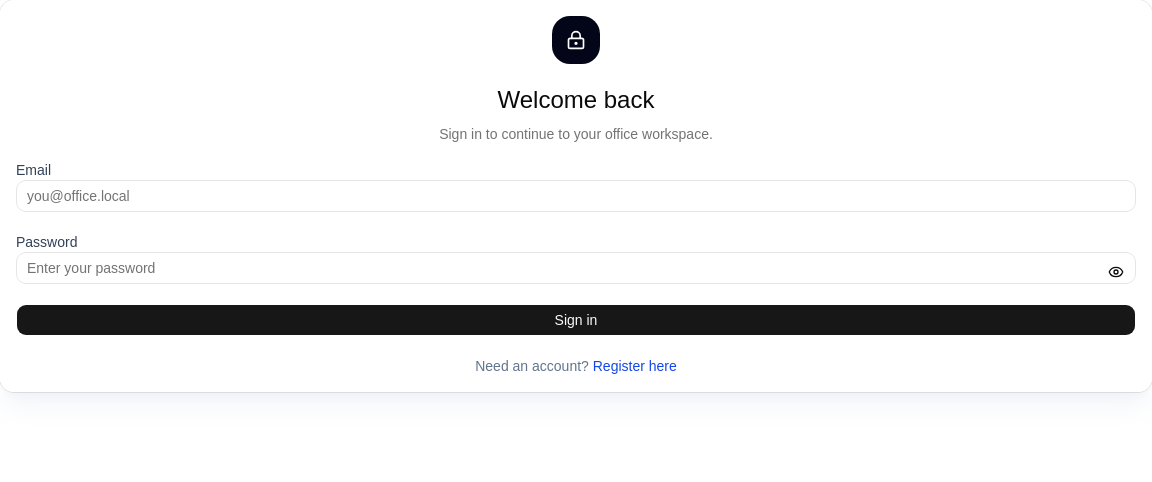
Test case: authentication UI and session state › shows a safe error for invalid credentials
Type "ada@office.local" into the field labelled "Email" at [576, 196], box [16,180,1136,212]
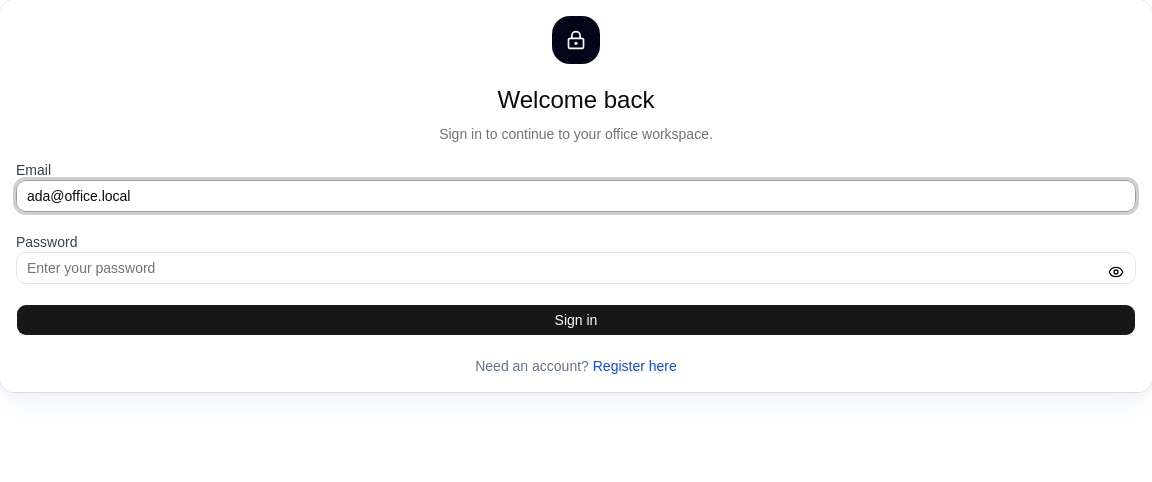
Type "wrong-password" into the password field labelled "Password" at [576, 268], box [16,252,1136,284]
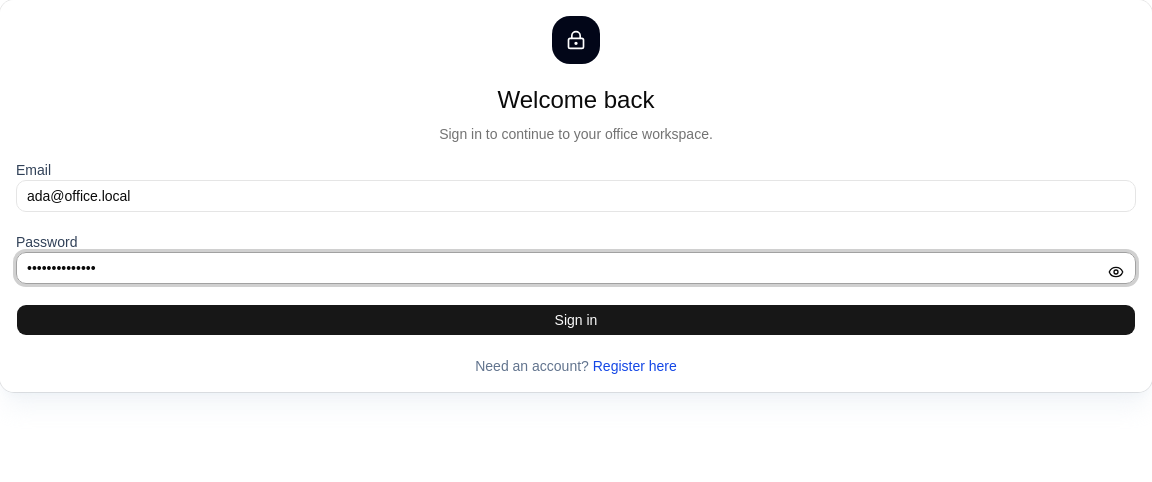
Click the button "Sign in" at [576, 320], box [16,304,1136,336]
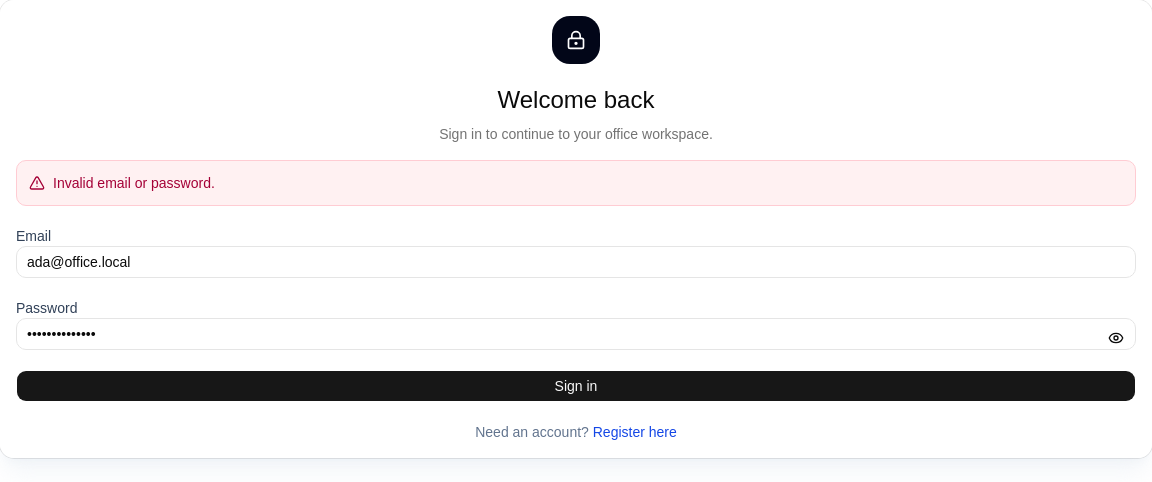
Check: the message shows "Invalid email or password", box [53,175,215,191]
